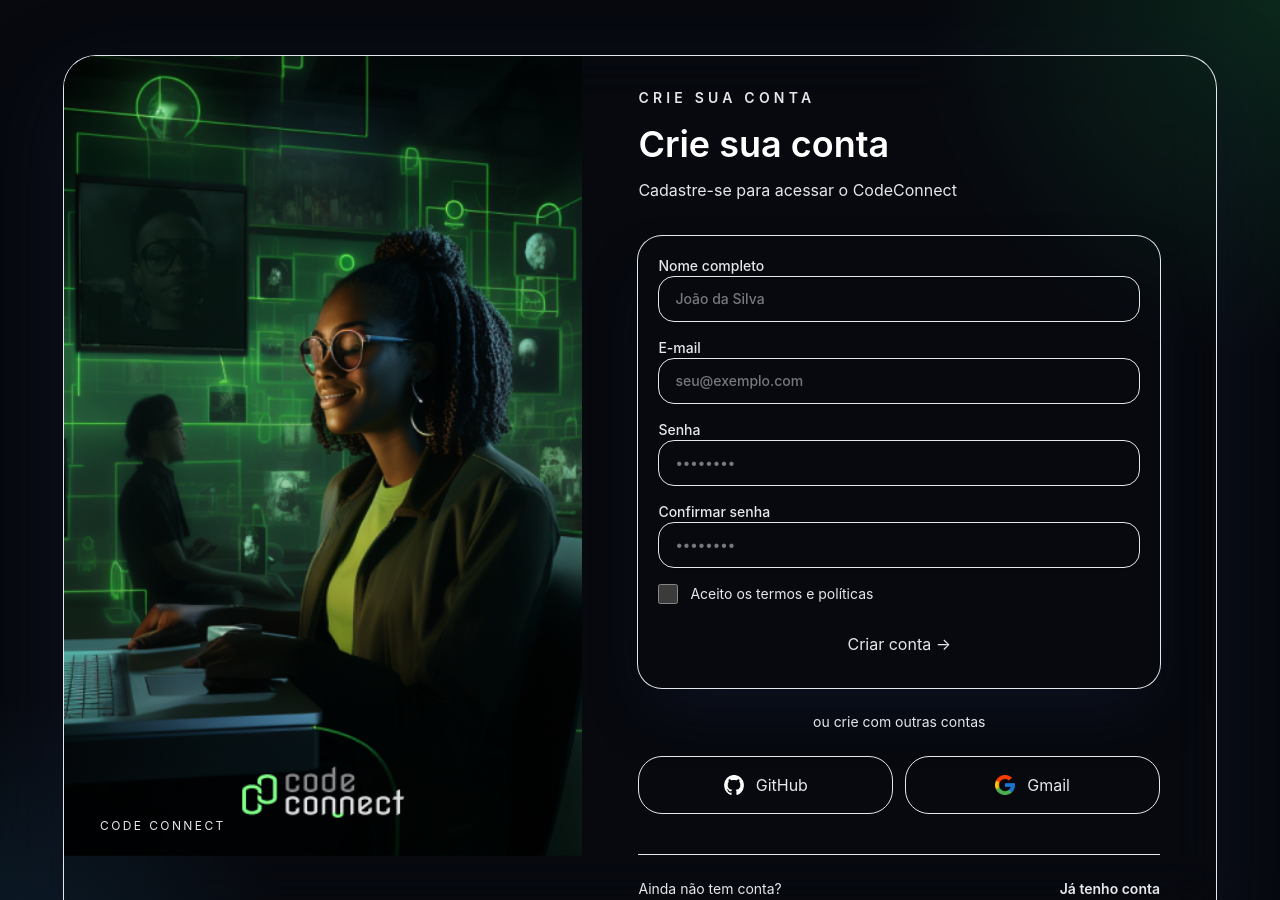
Test: RegisterPage › shows API errors
Type "Ana Silva" into the field labelled "Nome completo".
click(899, 299); type("Ana Silva")  # box [658,276,1140,322]
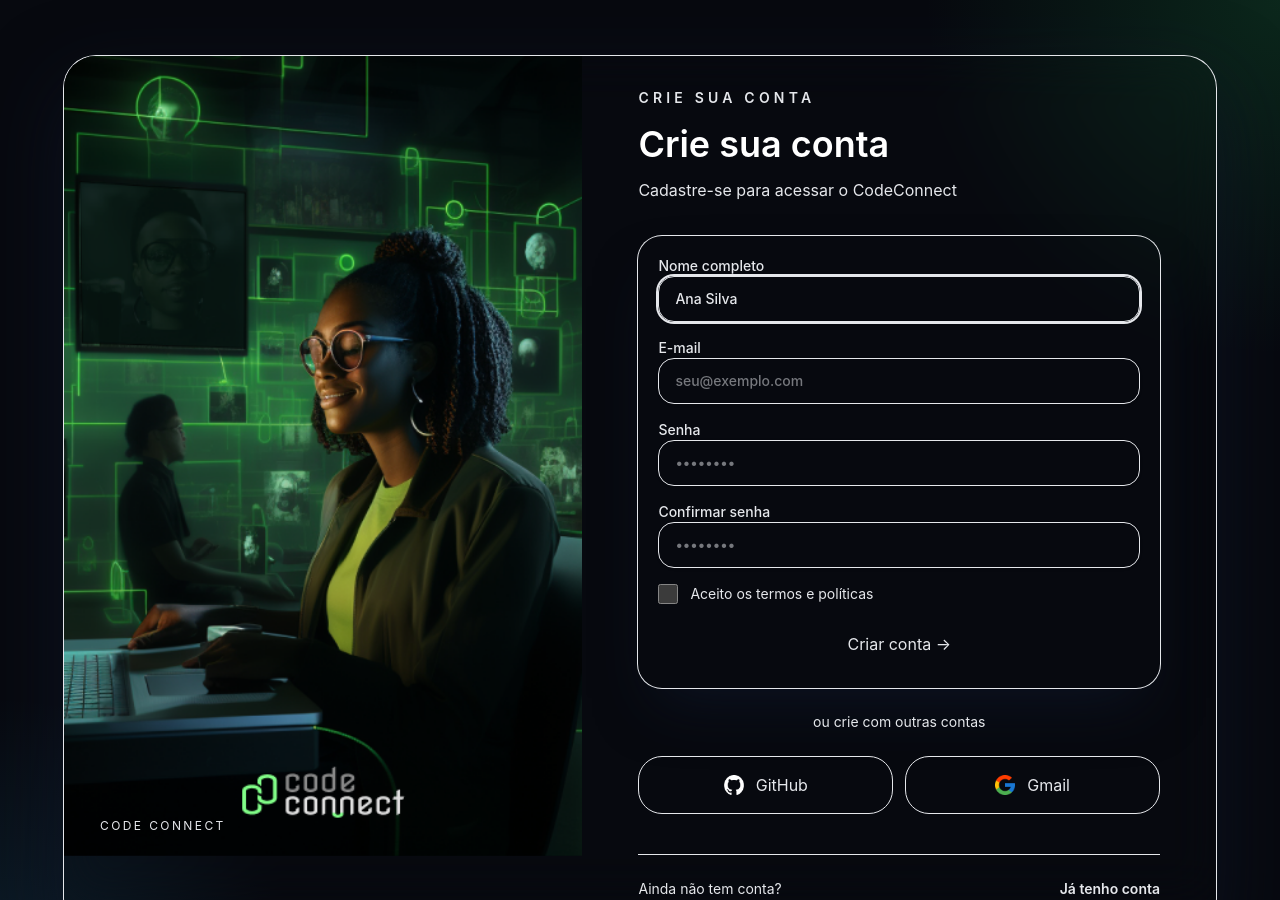
Type "ana@example.com" into the field labelled "E-mail".
click(899, 381); type("ana@example.com")  # box [658,358,1140,404]
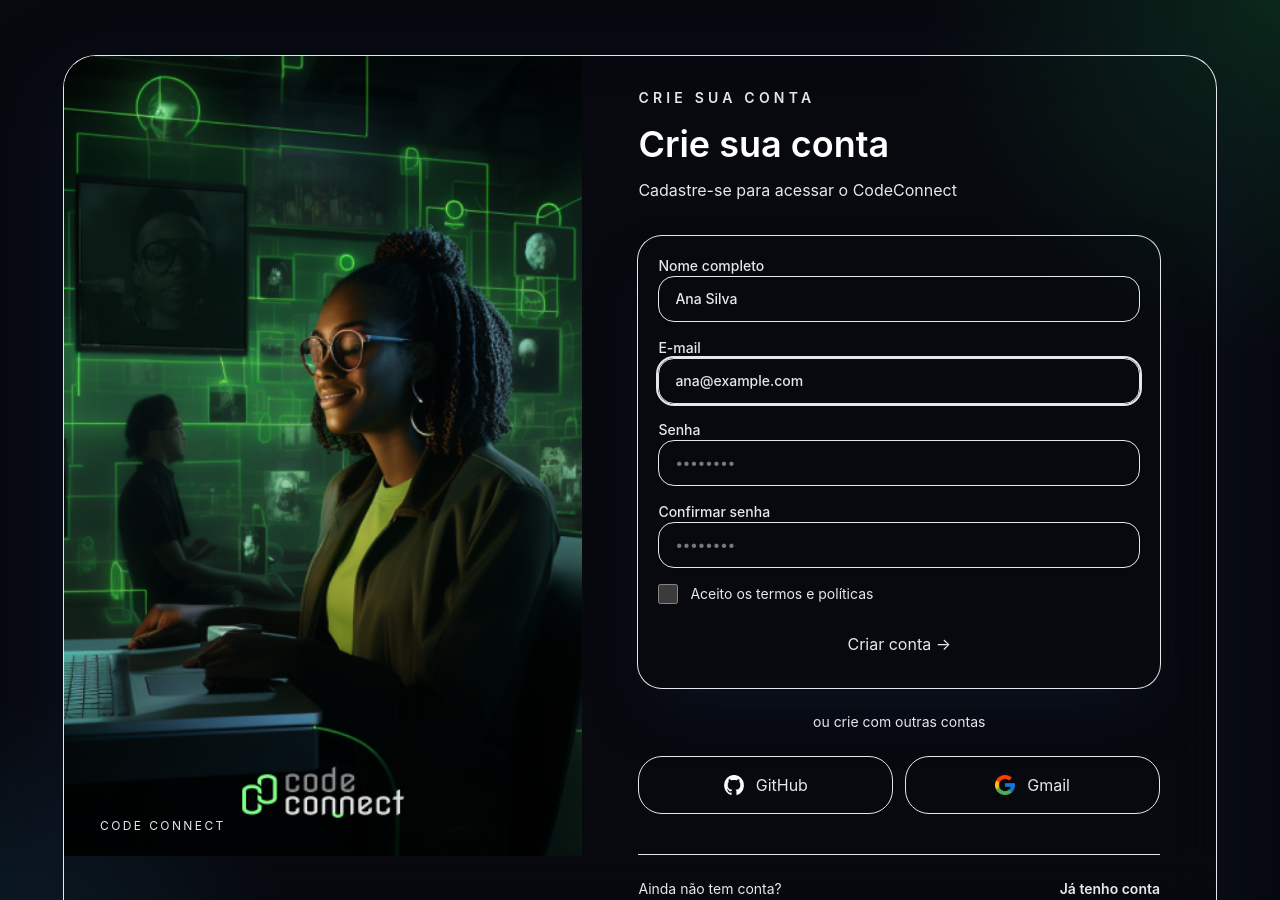
Type "password123" into the password field labelled "Senha".
click(899, 463); type("password123")  # box [658,440,1140,486]
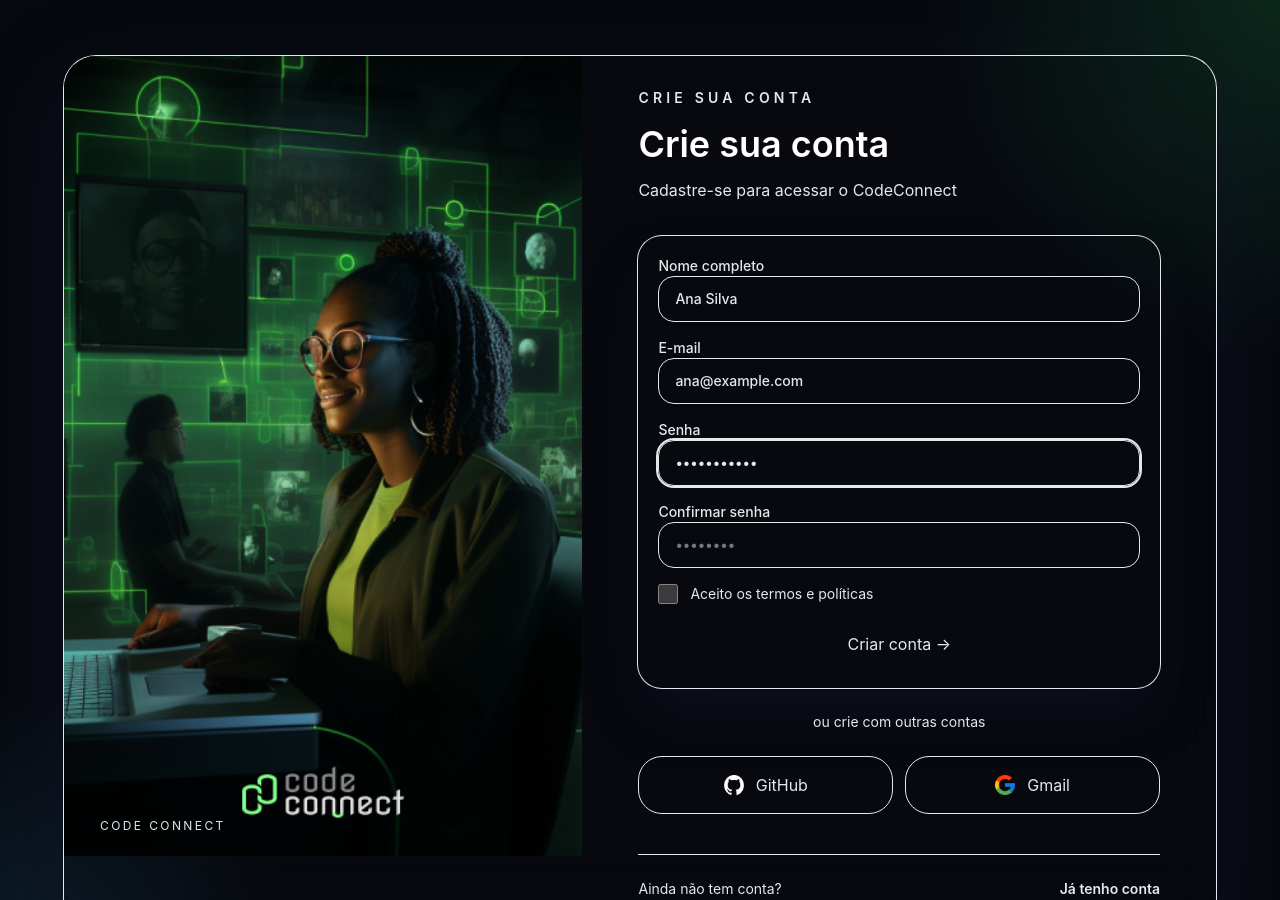
Type "password123" into the password field labelled "Confirmar senha".
click(899, 545); type("password123")  # box [658,522,1140,568]
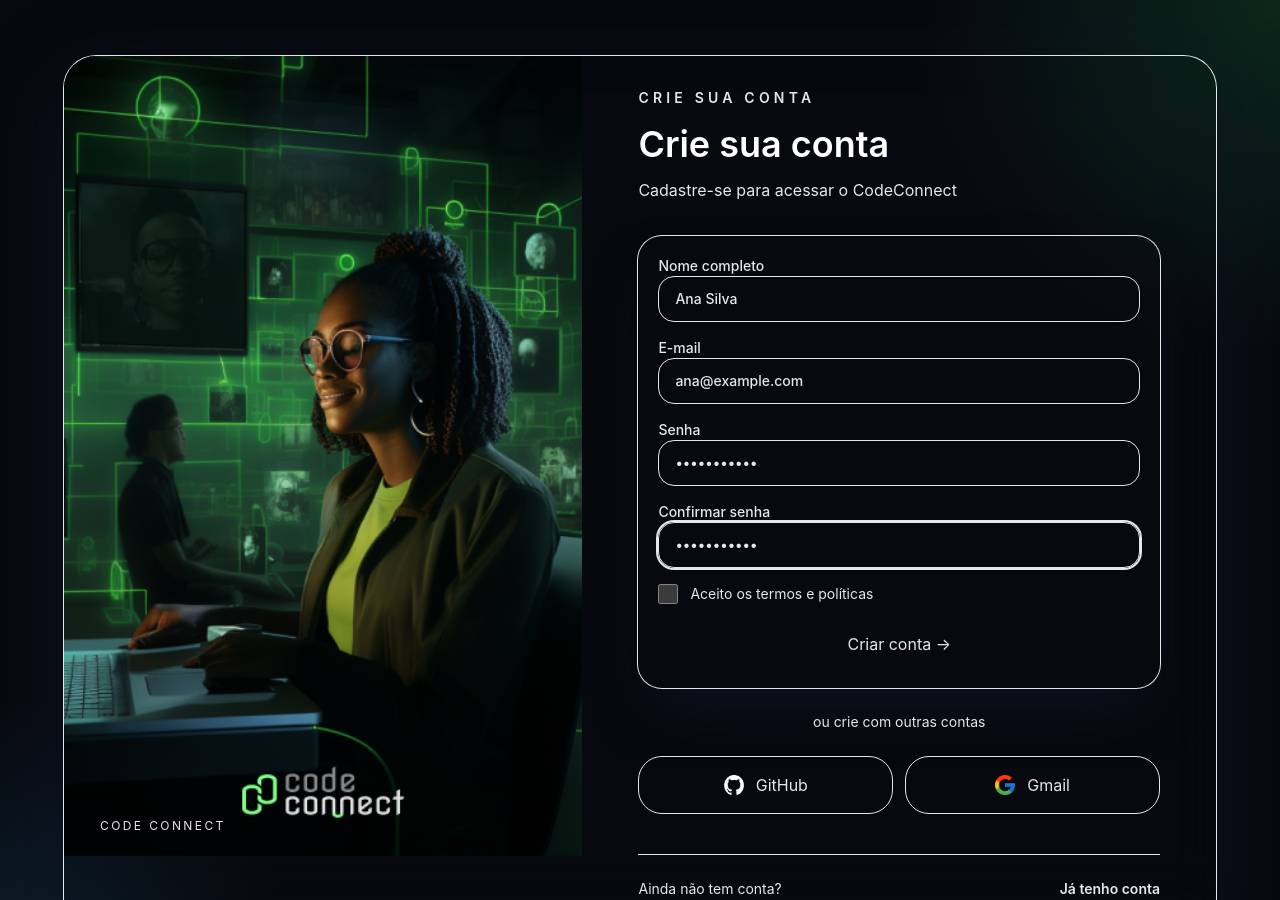
Click the checkbox labelled "Aceito os termos e políticas".
click(668, 594)  # box [658,584,678,604]
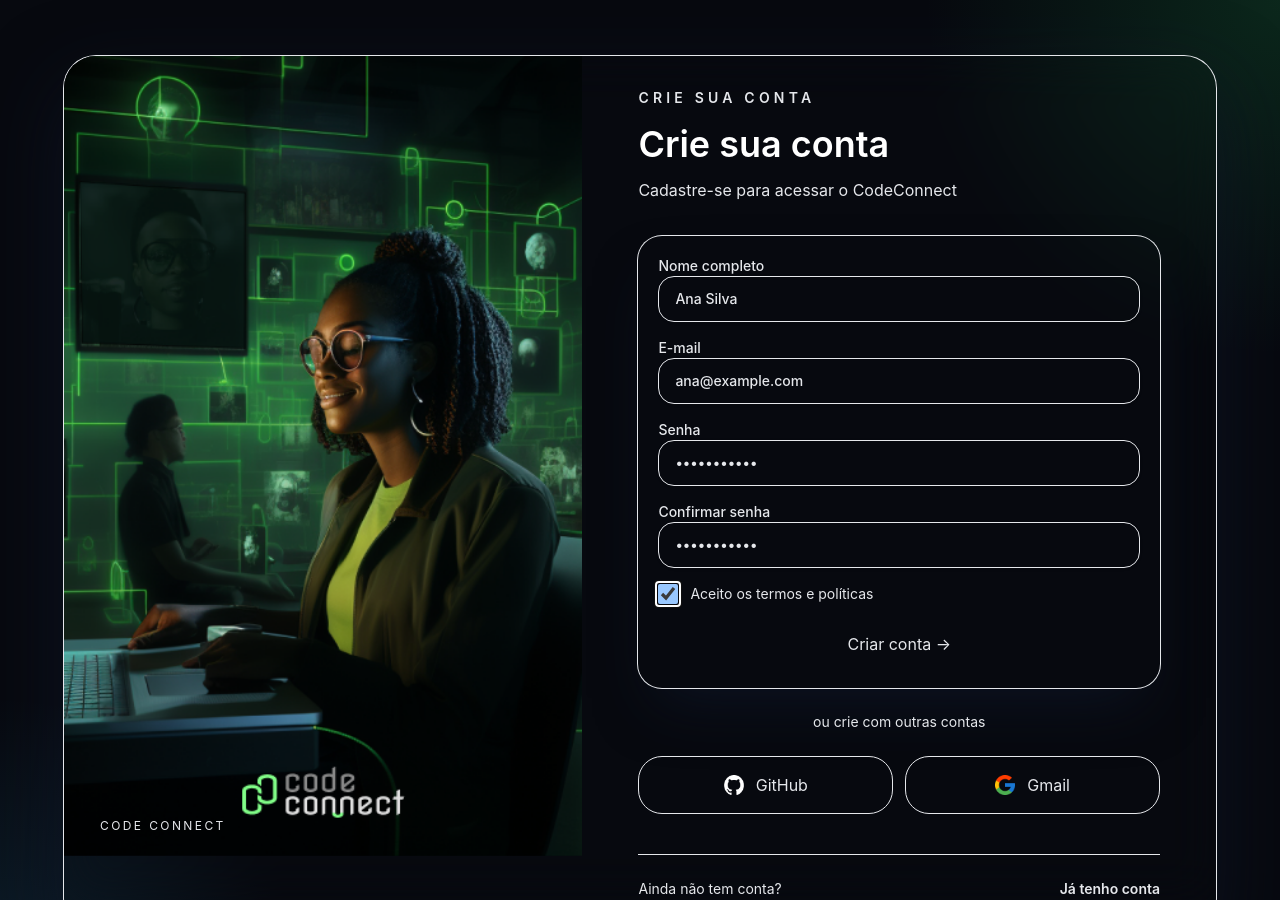
Click the button "Criar conta →".
click(899, 644)  # box [658,620,1140,668]
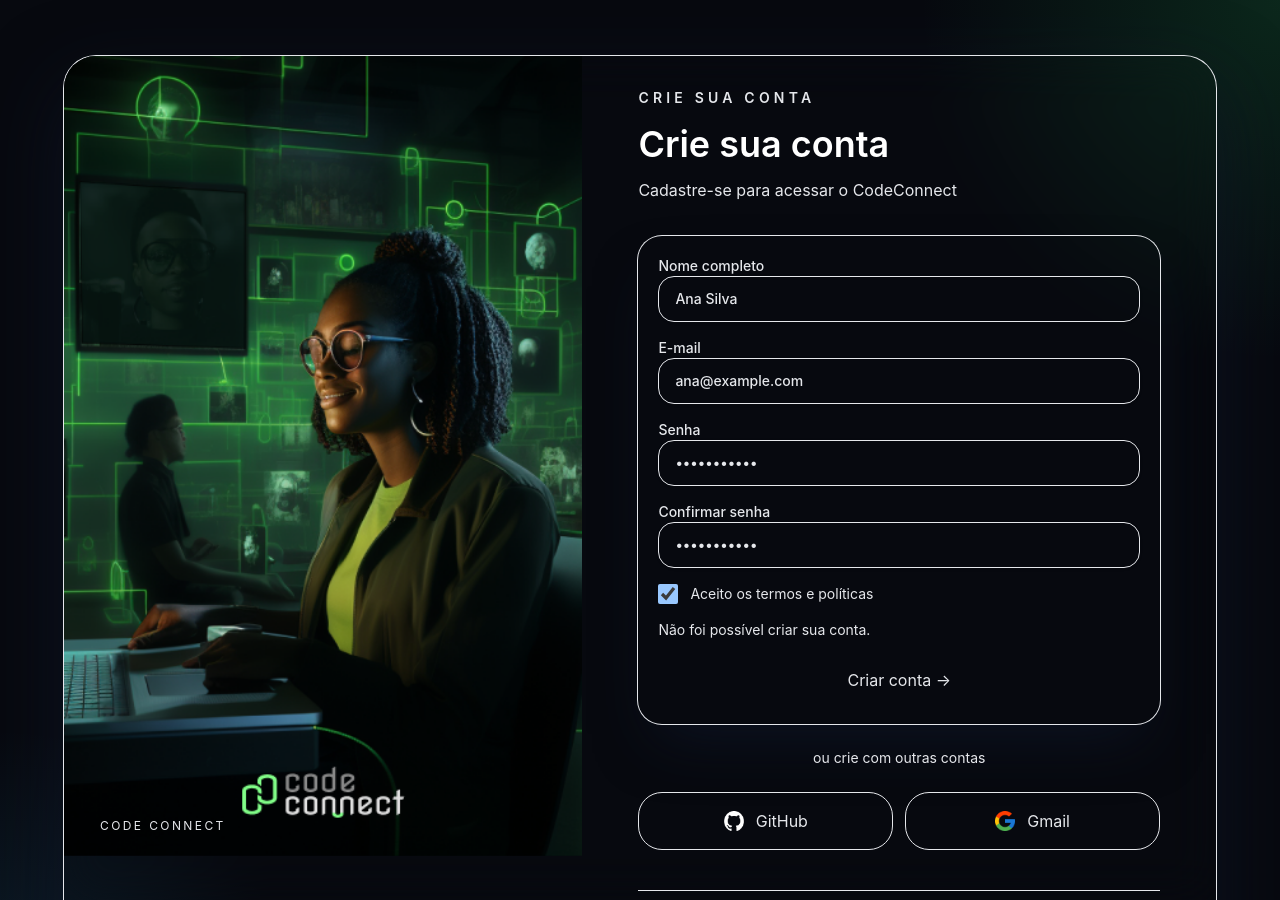
Now the text "Não foi possível criar sua conta." is shown, box [658,621,870,638]
